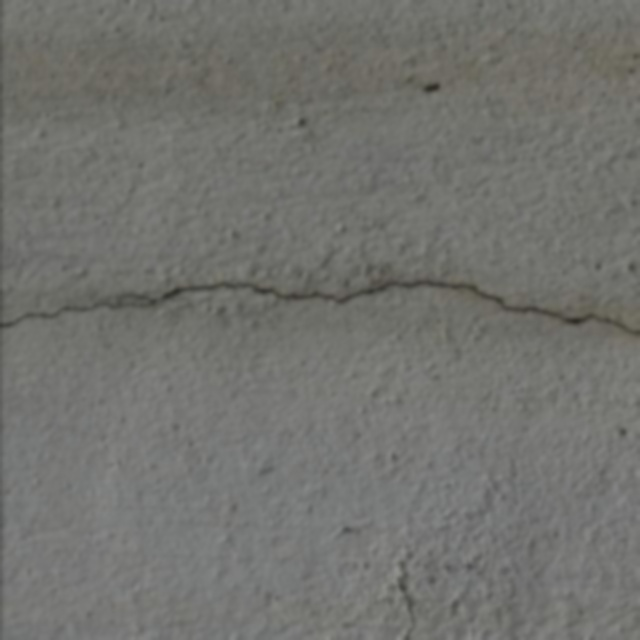SurfaceCrack: (1, 232, 640, 378)
